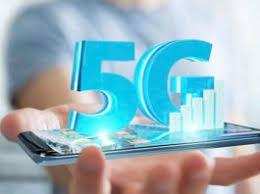Hand: (10, 109, 260, 194)
Smartphone: (17, 119, 259, 160)
